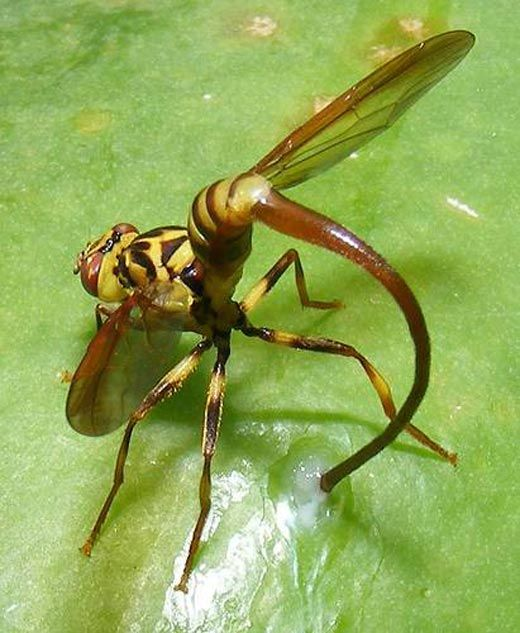Fruit fly: (40, 74, 488, 569)
